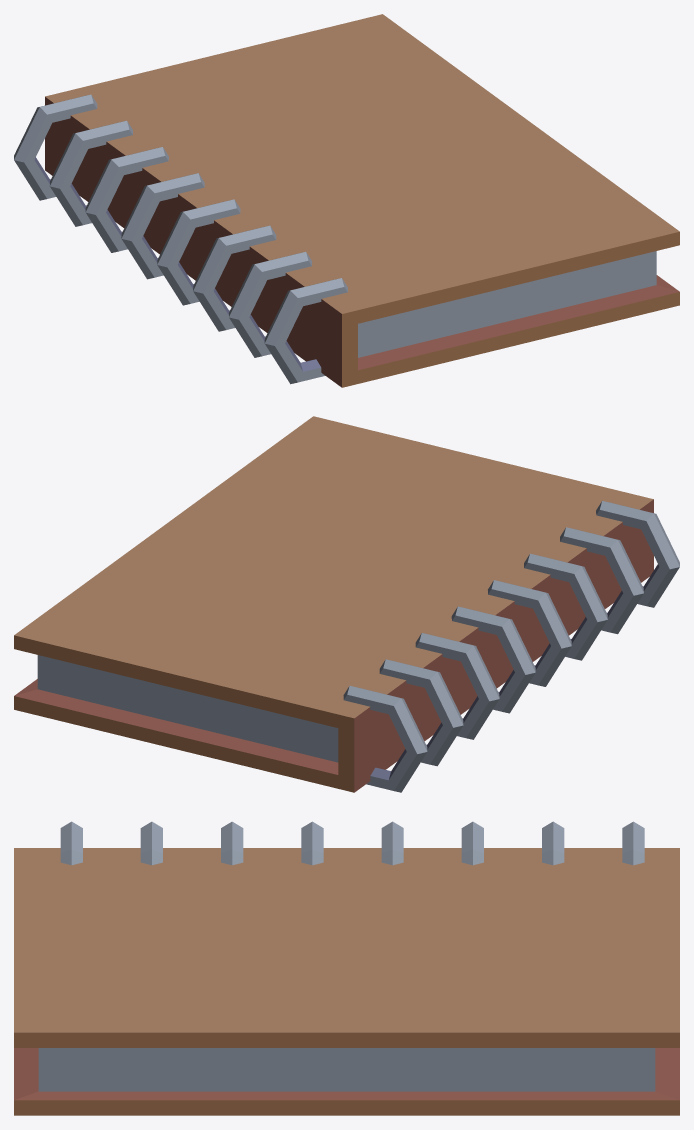
File: Book.fbx
The picture shows the model from 3 angles, top to bottom: view 1: azimuth 30°, elevation 25°; view 2: azimuth 150°, elevation 25°; view 3: azimuth 270°, elevation 25°; orthographic projection. The views are drawn at different scales.
Visible parts, largest first — view 1: Cube.002; view 2: Cube.002; view 3: Cube.002.
Boxes of the visible parts, bbox=[...] form: Cube.002: bbox=[14, 14, 679, 387]; Cube.002: bbox=[14, 416, 679, 792]; Cube.002: bbox=[14, 821, 679, 1115].
Bounding box in the file's own units: 71.07 × 16.35 × 93.92.
